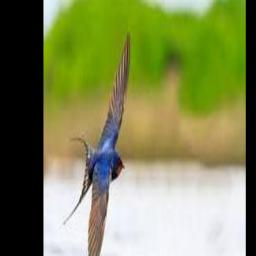Swallow: (62, 28, 130, 256)
